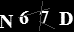6: (18, 10, 30, 25)
7: (39, 10, 49, 25)
D: (58, 10, 74, 26)
N: (1, 14, 14, 29)
